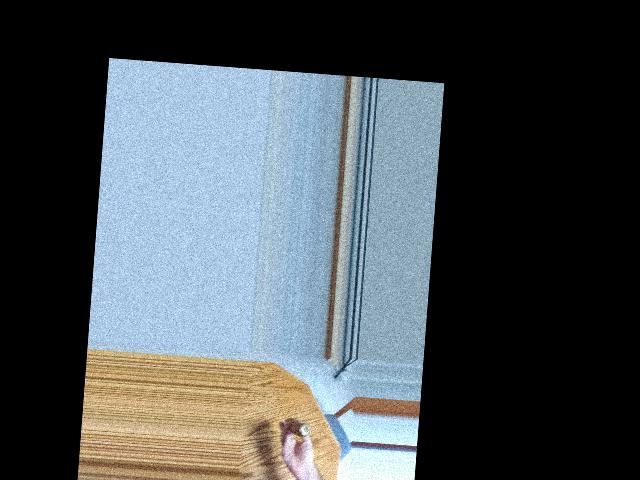sweet_potato: (282, 416, 315, 442)
